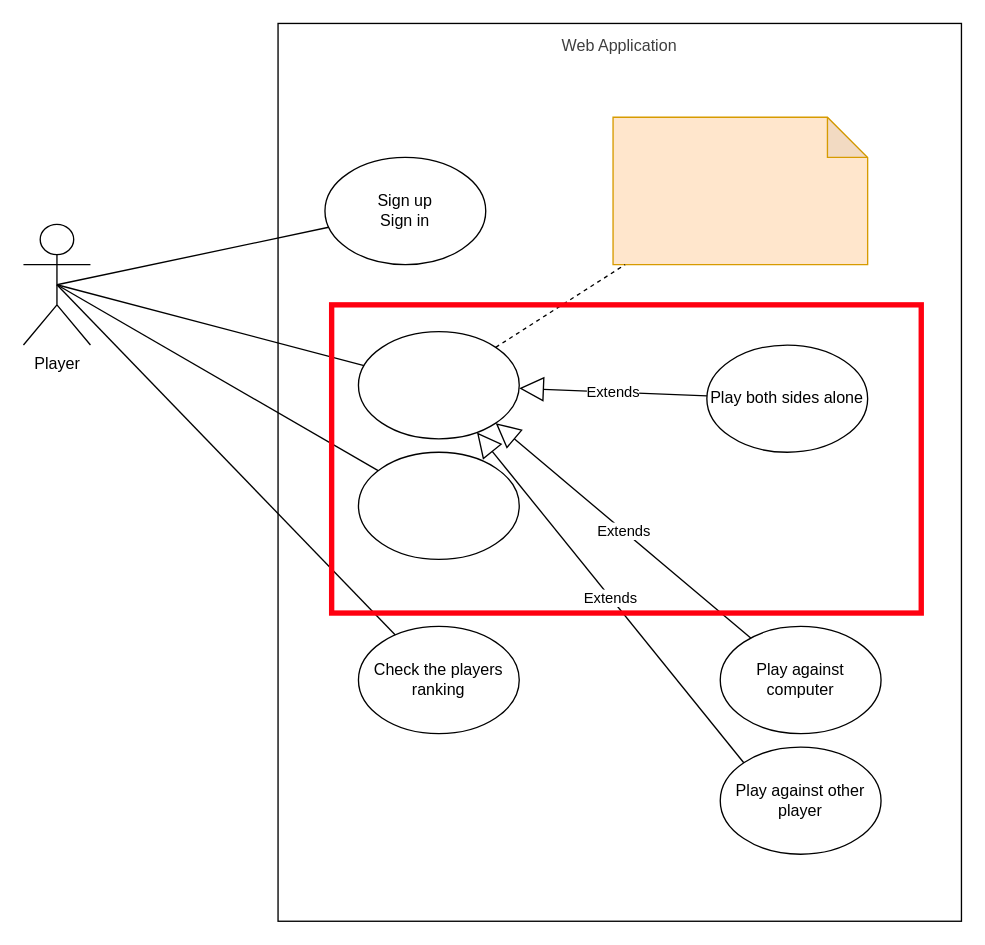
Image size: 985x945. Some labels were removed from this diagram. Here are the shapes that lost their labels. From the top down, the box of each, then its label:
(612, 116, 868, 265): Start the battle Look the borad Place the stone See who won
(357, 330, 519, 439): Battle
(357, 451, 519, 559): Check the past battles
